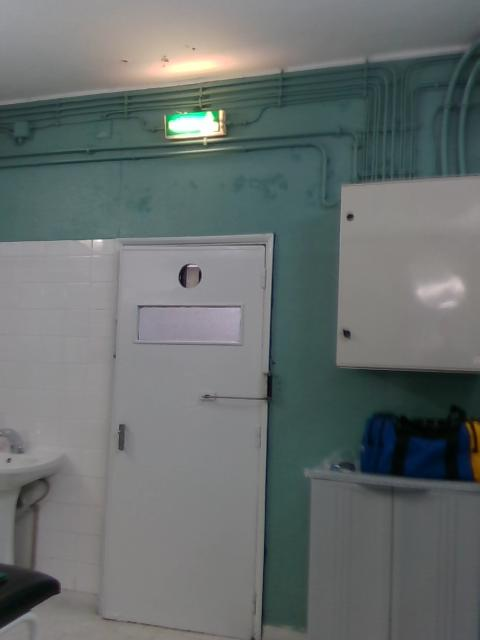door: (101, 245, 263, 639)
